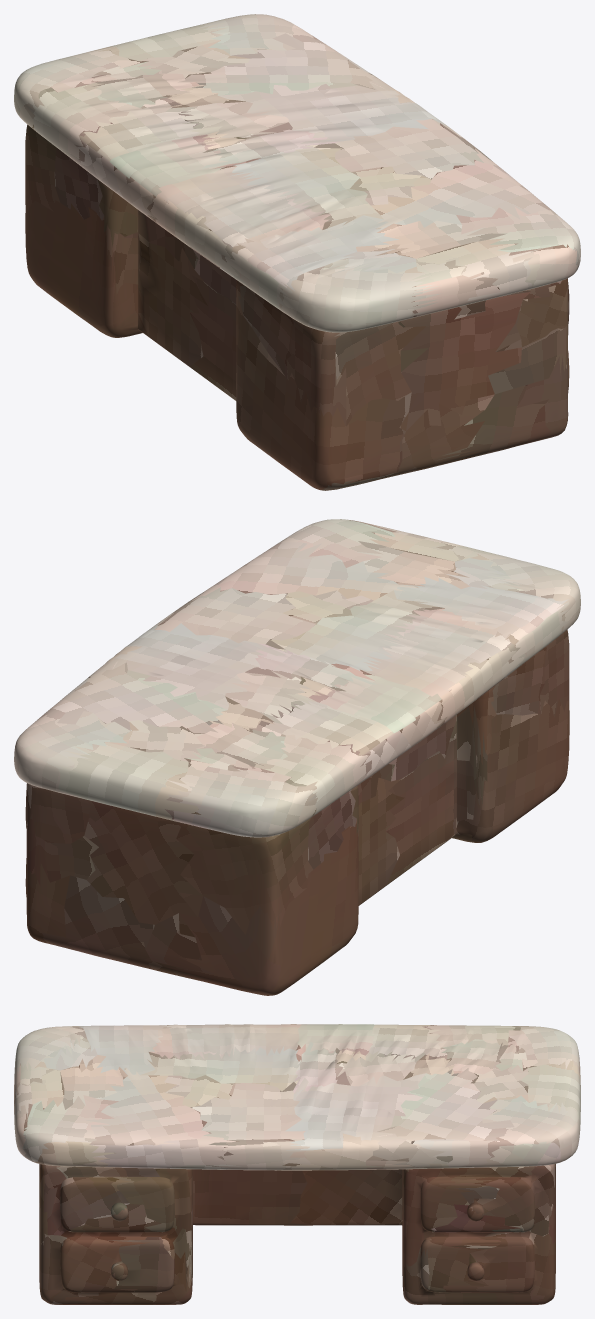
File: KR_사물_s1_office_desk.glb
3 renders of one model, top to bottom at view 1: azimuth 30°, elevation 25°; view 2: azimuth 150°, elevation 25°; view 3: azimuth 270°, elevation 25°, orthographic. The views are drawn at different scales.
Parts seen in each view (by area): view 1: tripo_node_a6ef01c5-bf2c-4c71-bee0-0334007c537e; view 2: tripo_node_a6ef01c5-bf2c-4c71-bee0-0334007c537e; view 3: tripo_node_a6ef01c5-bf2c-4c71-bee0-0334007c537e.
Boxes of the visible parts, left/top/right/bottom form: tripo_node_a6ef01c5-bf2c-4c71-bee0-0334007c537e: left=14, top=14, right=580, bottom=490; tripo_node_a6ef01c5-bf2c-4c71-bee0-0334007c537e: left=14, top=519, right=580, bottom=995; tripo_node_a6ef01c5-bf2c-4c71-bee0-0334007c537e: left=14, top=1024, right=580, bottom=1304.
Size of the model in its own units: 0.5217 by 0.3549 by 1.
1 material, 1 textured.
